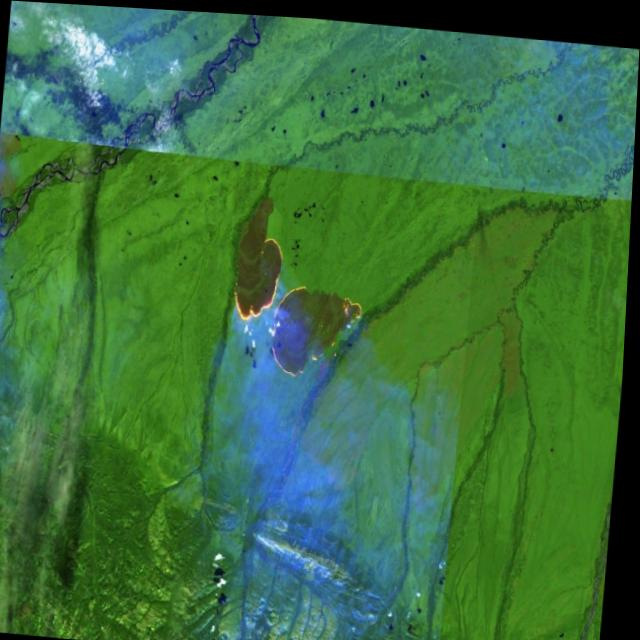fire: (227, 226, 374, 386)
